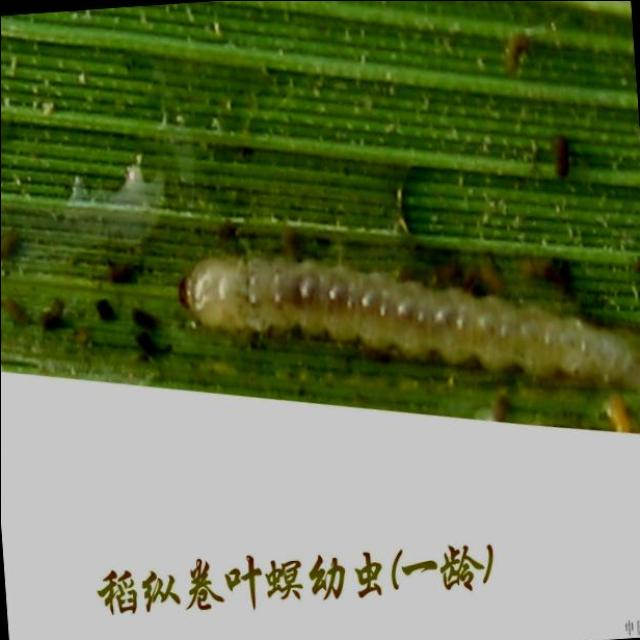leaf folder: (179, 257, 640, 388)
